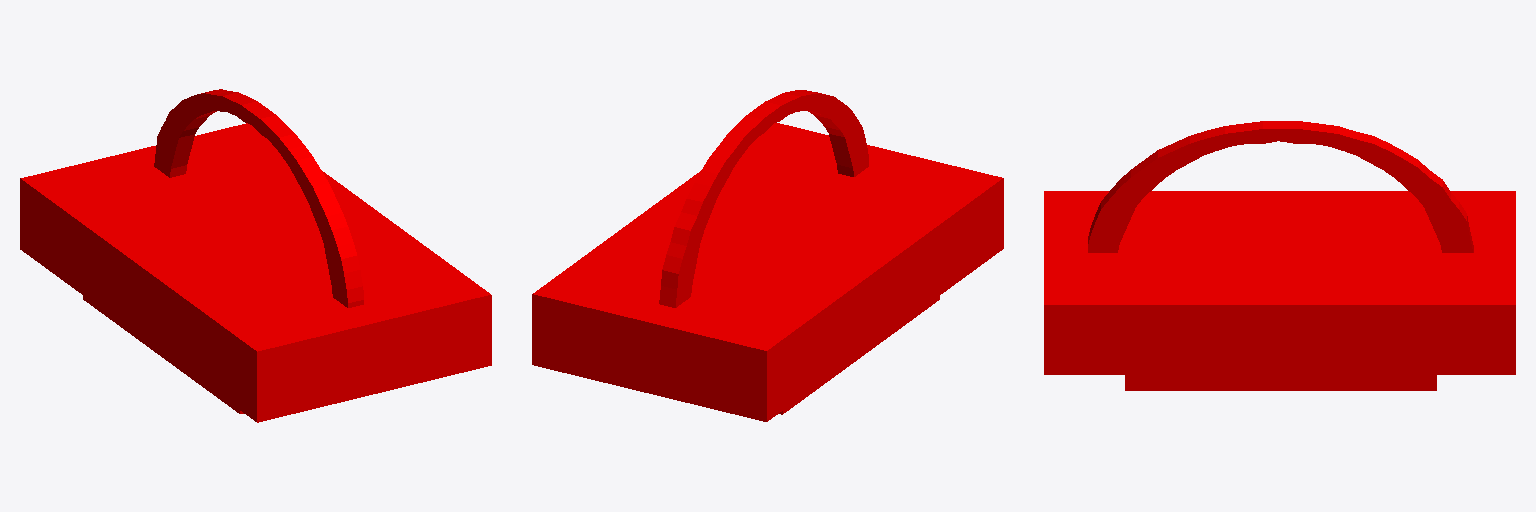
The robot description file, URDF, robot "box_top":
<robot name="box_top">
<link name="baseLink">
    <contact>
        <lateral_friction value="1.0"/>
        <rolling_friction value="0.0"/>
        <contact_cfm value="0.0"/>
        <contact_erp value="1.0"/>
    </contact>
    <inertial>
        <origin rpy="0.0 0.0 0.0" xyz="0.0 0.0 0.0"/>
        <mass value="0.2"/>
        <inertia ixx="1.0" ixy="0.0" ixz="0.0" iyy="1.0" iyz="0.0" izz="1.0"/>
    </inertial>
    <visual>
        <origin rpy="0.0 0.0 1.5708" xyz="0.0 0.0 0.0"/>
        <geometry>
            <mesh filename="box_top.obj" scale="1.0 1.0 1.0"/>
        </geometry>
        <material name="red">
            <color rgba="1.0 0.0 0.0 1.0"/>
        </material>
    </visual>
    <collision>
        <origin rpy="0.0 0.0 0.0" xyz="0.0 0.0 0.0"/>
        <geometry>
            <mesh filename="box_top_vhacd.obj" scale="1.0 1.0 1.0"/>
        </geometry>
    </collision>
</link>
</robot>

--- Facts derived from the render (not from the file) ---
3 views of the same robot in one strip: view 1: azimuth 30°, elevation 25°; view 2: azimuth 150°, elevation 25°; view 3: azimuth 270°, elevation 25° (orthographic).
Model box_top with 1 links and 0 joints (none), rooted at baseLink, posed all joints at 0.
Links seen in each view (by area): view 1: baseLink; view 2: baseLink; view 3: baseLink.
Boxes of the visible links, x1,y1,x2,y2 form: baseLink: (20,89,491,422); baseLink: (532,90,1003,421); baseLink: (1044,121,1515,390).
Size in the robot's own frame: 0.1 by 0.175 by 0.091 metres.
1 mesh visuals loaded from 1 distinct referenced files (1 OBJ).
